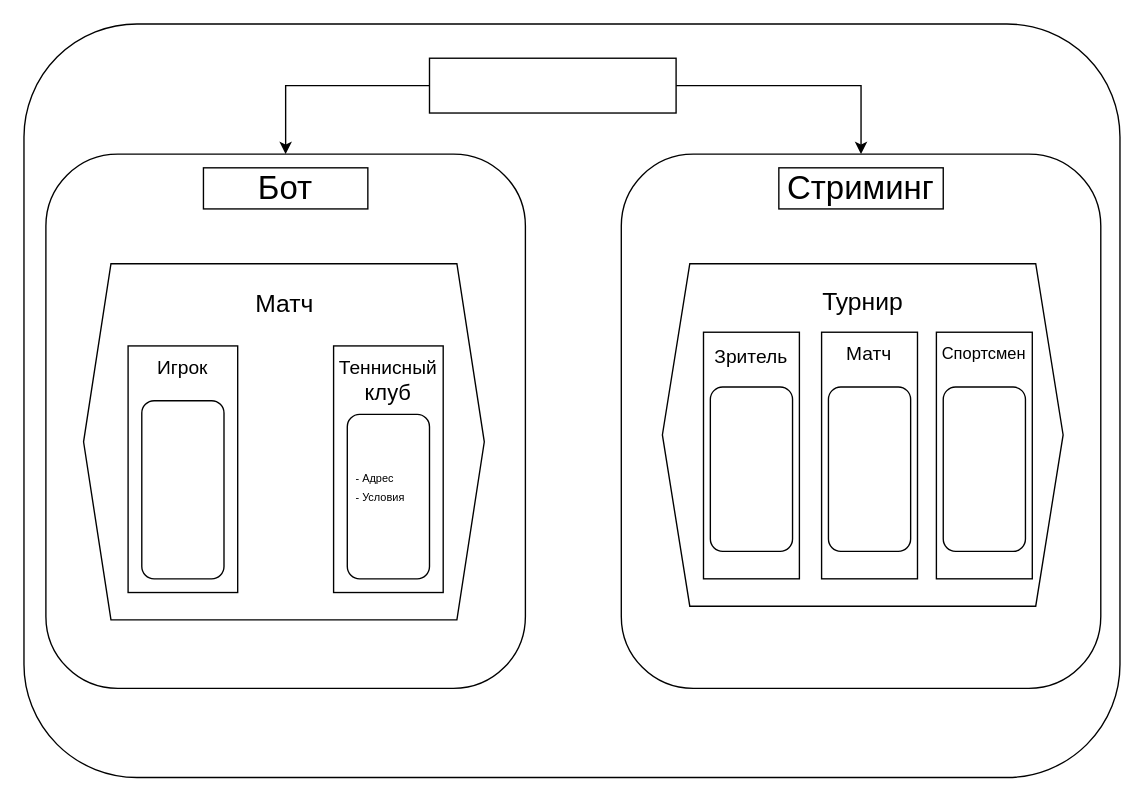
The diagram is 1144 pixels wide and 801 high, and some of its shapes have lost their labels. Here are the shapes that lost their labels. From the top down, the centre of each, then its label:
the point at 552,85: Теннис
the point at 751,468: - Контактные данные - Предпочте- ния
the point at 869,468: - Место - Состав
the point at 983,468: - Личные данные - Рейтинг
the point at 182,489: - Рейтинг - Предпочте- ния - Контакт ные данные - История матчей
